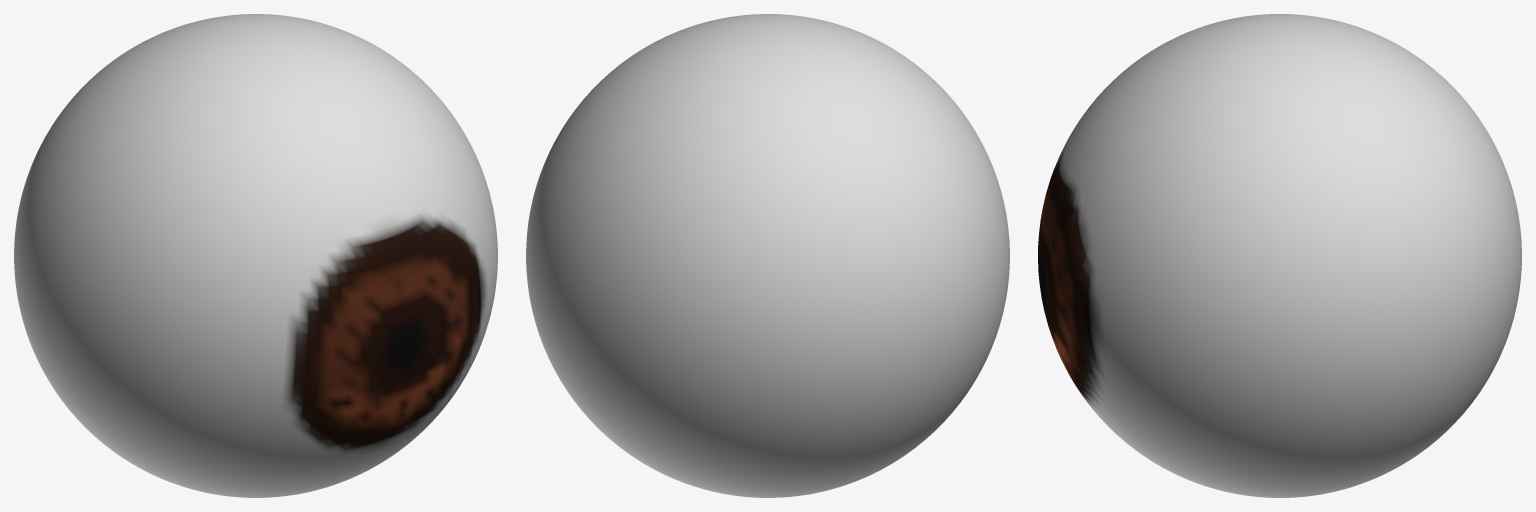
3 renders of one model, left to right at view 1: azimuth 30°, elevation 25°; view 2: azimuth 150°, elevation 25°; view 3: azimuth 270°, elevation 25°, orthographic.
Visible parts, largest first — view 1: PM3D_Sphere3D1; view 2: PM3D_Sphere3D1; view 3: PM3D_Sphere3D1.
Boxes of the visible parts, box(x1,y1,x2,y2) form: PM3D_Sphere3D1: box(14, 14, 497, 497); PM3D_Sphere3D1: box(526, 14, 1009, 497); PM3D_Sphere3D1: box(1038, 14, 1521, 497).
Bounding box in the file's own units: 0.2414 × 0.2414 × 0.2414.
